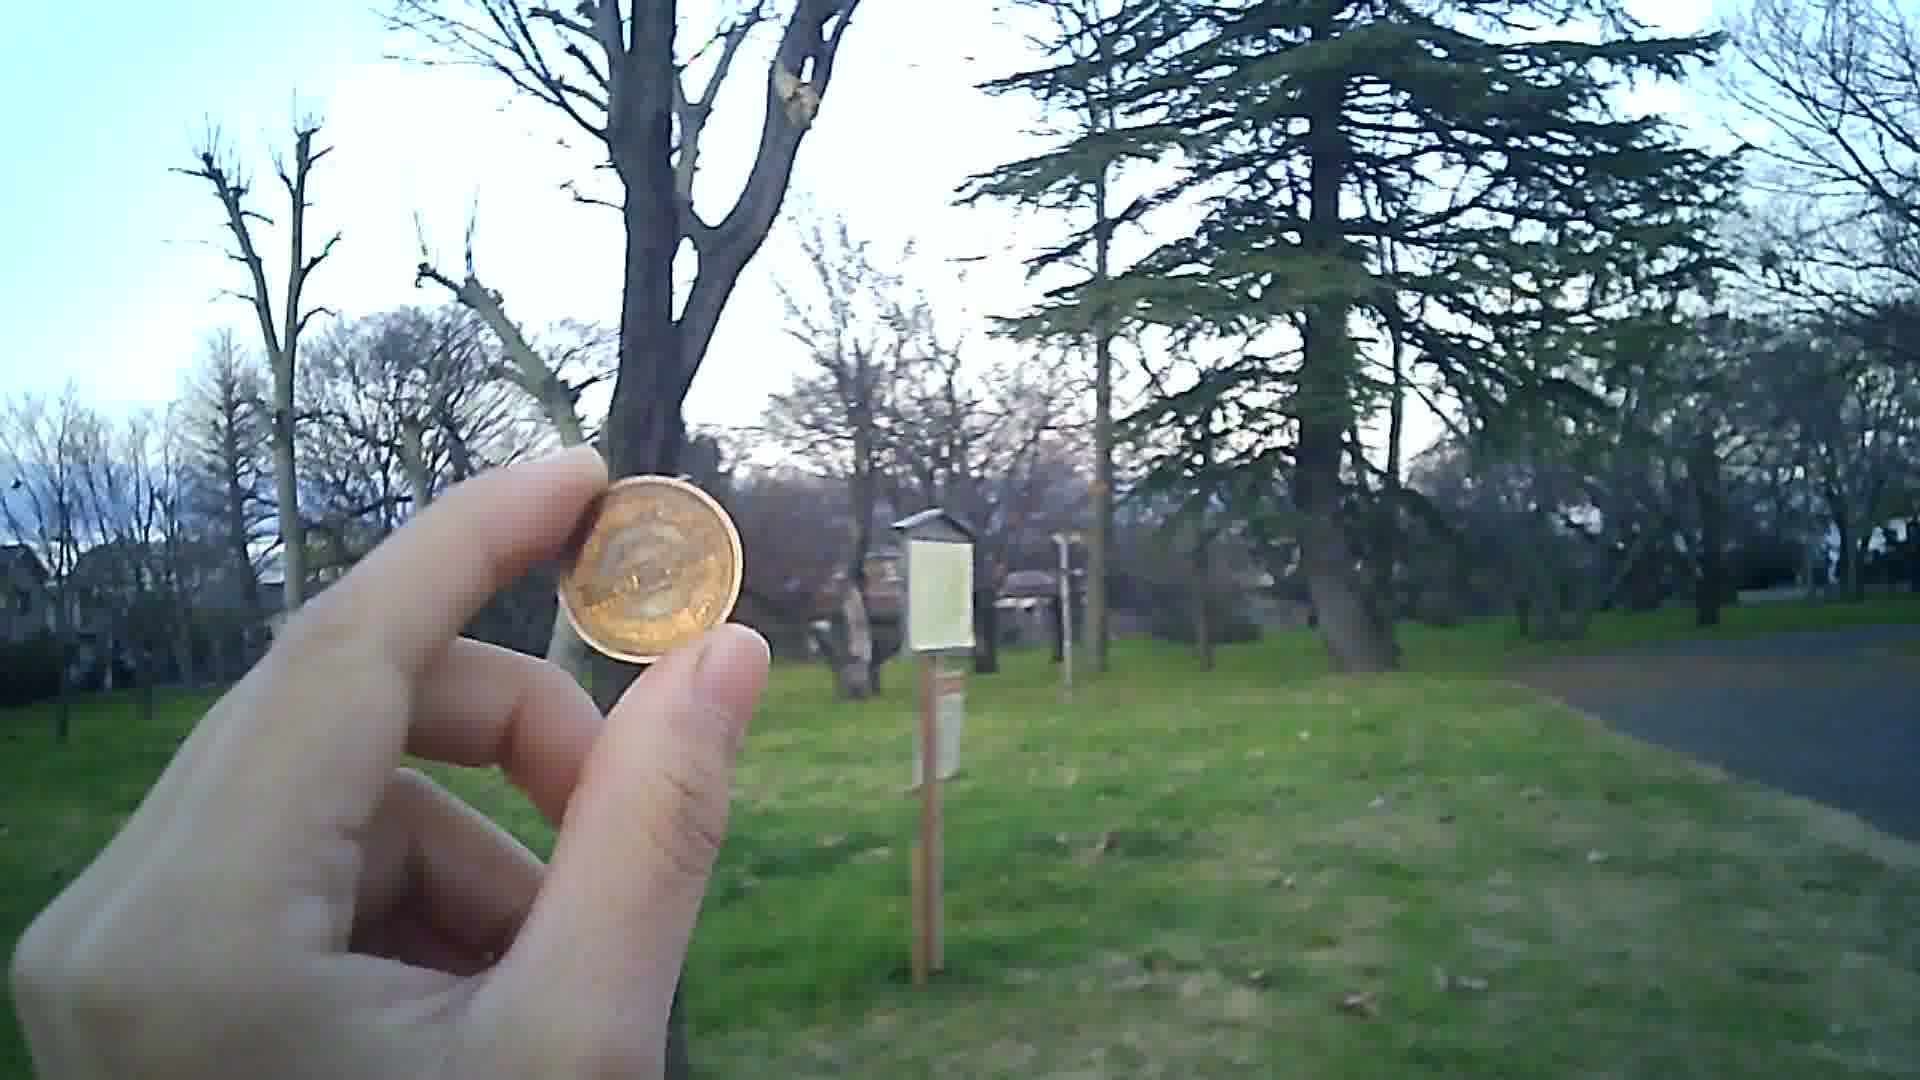10 Yen: (550, 473, 738, 657)
